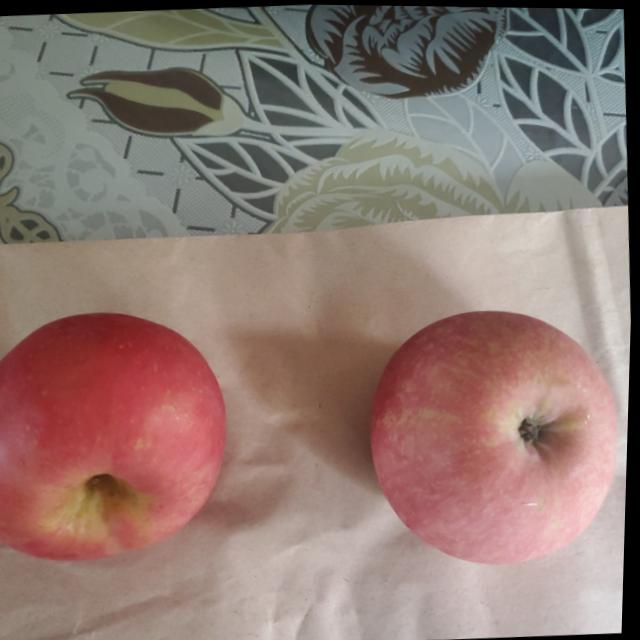apple: (370, 302, 633, 574), (0, 306, 238, 566)
